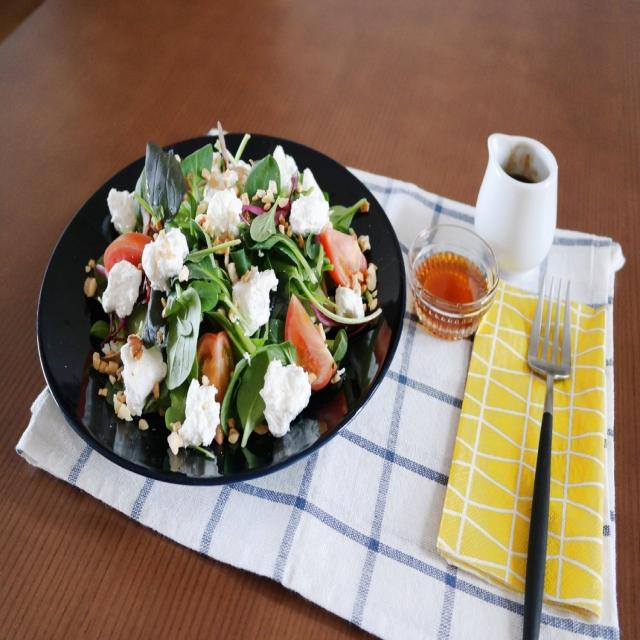cheese: (259, 360, 311, 437), (120, 337, 166, 416), (233, 266, 278, 336), (178, 378, 220, 448), (289, 194, 329, 235)
